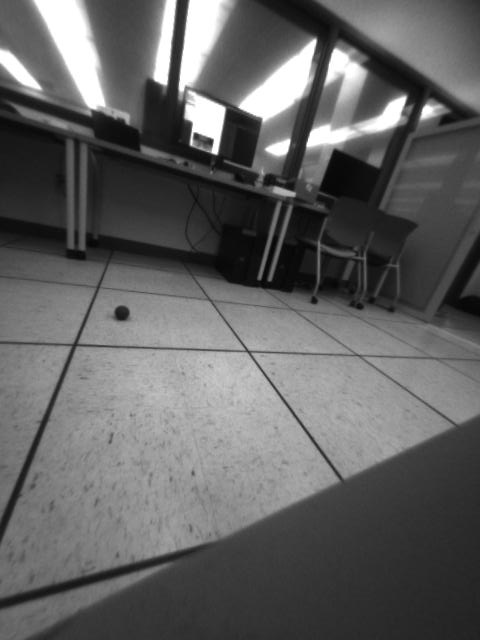dogtoy: (108, 296, 138, 325)
